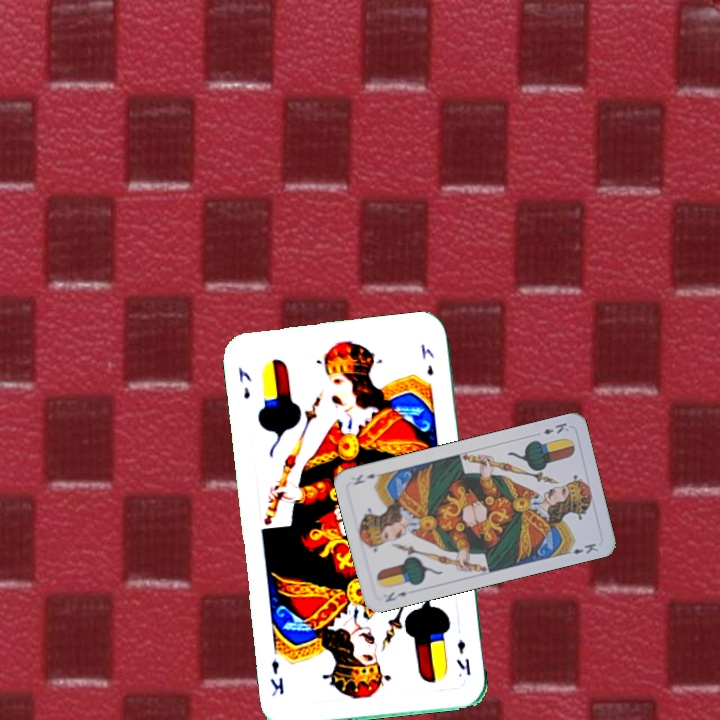EK: (452, 635, 474, 677), (235, 363, 254, 402), (539, 418, 572, 437), (381, 587, 409, 605)
